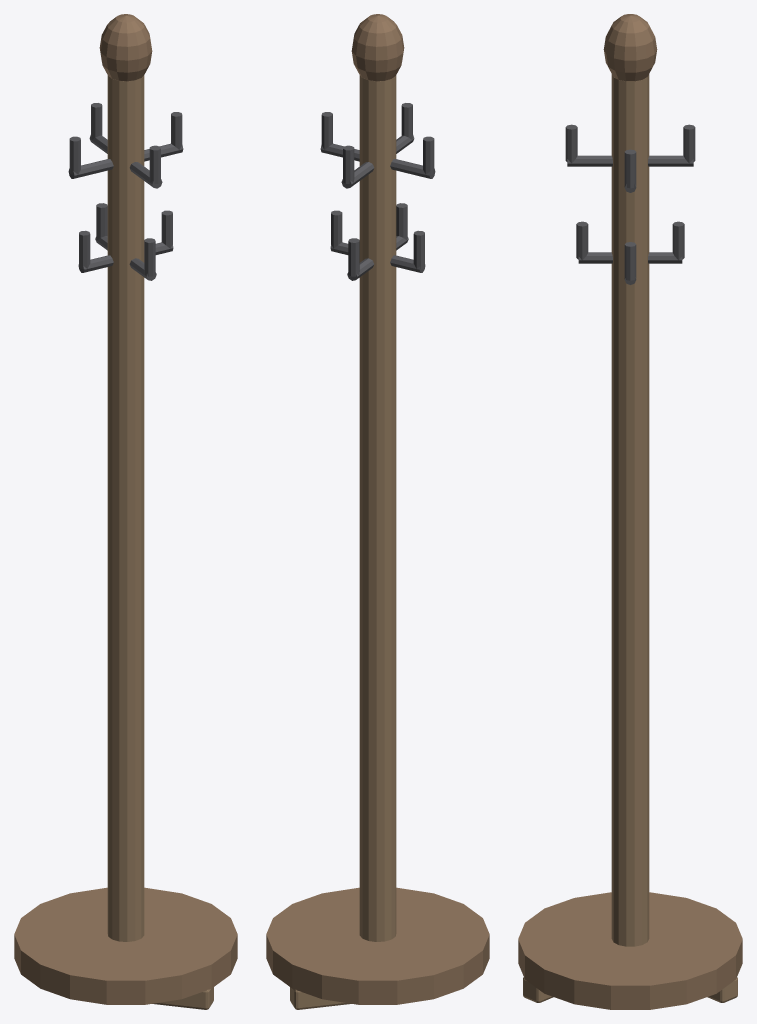
3 views of the same model, side by side, from view 1: azimuth 30°, elevation 25°; view 2: azimuth 150°, elevation 25°; view 3: azimuth 270°, elevation 25° (orthographic).
Visible parts, largest first — view 1: hallTree; view 2: hallTree; view 3: hallTree.
Boxes of the visible parts, <box> form: hallTree: <box>14,14,237,1009</box>; hallTree: <box>266,14,489,1009</box>; hallTree: <box>518,14,742,1009</box>.
Size of the model in its own units: 0.4136 by 2.02 by 0.42.
